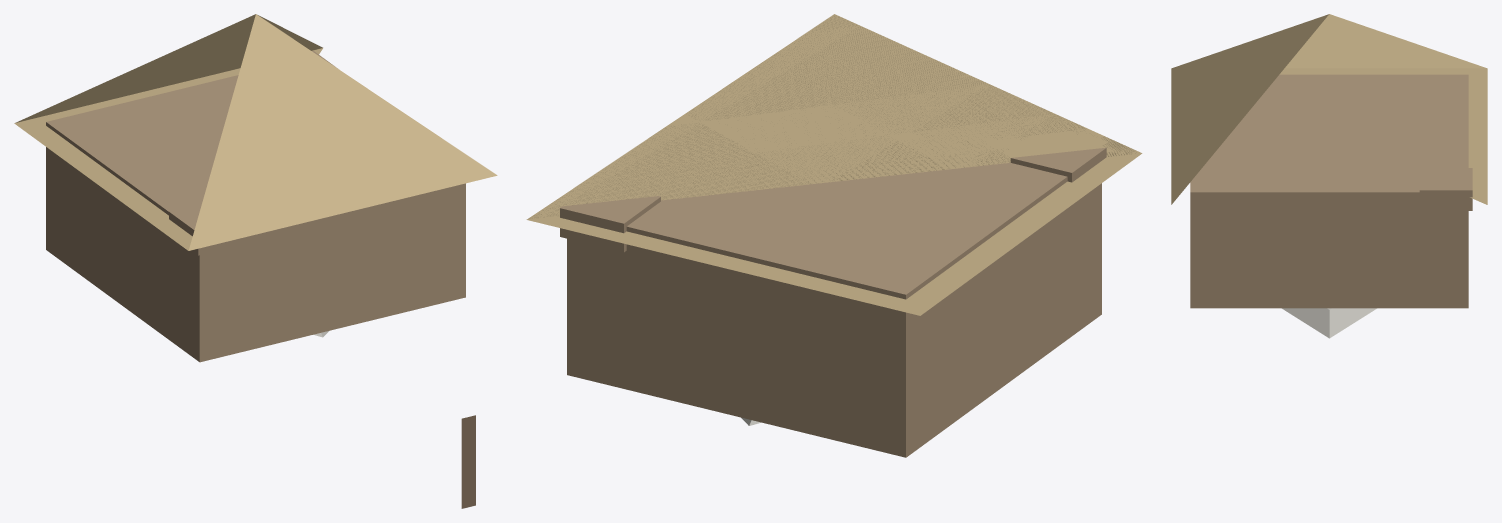
Rendered from watchtower.glb.
3 views of the same model, side by side, from view 1: azimuth 30°, elevation 25°; view 2: azimuth 150°, elevation 25°; view 3: azimuth 270°, elevation 25° (orthographic). The views are drawn at different scales.
Parts seen in each view (by area): view 1: lod0; view 2: lod0; view 3: lod0.
Boxes of the visible parts, box(x1,y1,x2,y2) form: lod0: box(14, 14, 497, 508); lod0: box(526, 14, 1142, 457); lod0: box(1171, 14, 1487, 338).
Size of what is drawn, in the model's own units: 4.3 by 6.3 by 4.2.
